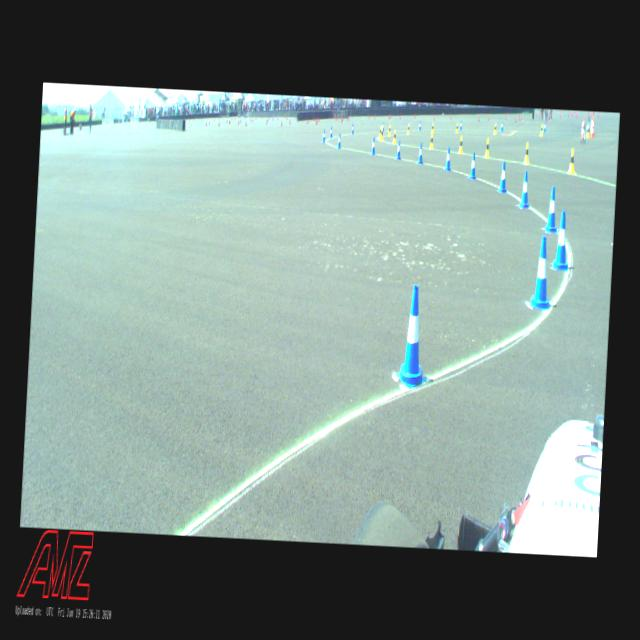blue_cone: (396, 285, 431, 389), (530, 236, 554, 310), (552, 210, 570, 270), (546, 186, 558, 232), (520, 172, 530, 208), (498, 161, 508, 193), (444, 147, 452, 171), (470, 153, 477, 180), (418, 142, 424, 164), (396, 140, 402, 160), (371, 136, 376, 154), (322, 130, 326, 144), (338, 134, 342, 148), (330, 126, 333, 138), (418, 121, 422, 130), (501, 121, 504, 132), (351, 124, 354, 134), (586, 121, 588, 133), (544, 122, 546, 133), (460, 120, 462, 130), (382, 122, 384, 132)
large_orange_cone: (580, 116, 584, 138), (591, 118, 595, 138), (590, 116, 593, 134)
unknown_cone: (280, 119, 282, 127), (414, 112, 416, 120), (515, 115, 517, 123), (245, 120, 247, 127), (316, 118, 318, 125), (506, 114, 508, 121), (272, 116, 274, 122), (294, 114, 296, 120), (560, 112, 562, 118), (568, 112, 570, 118), (572, 112, 574, 118), (218, 121, 220, 126), (234, 116, 236, 121), (588, 112, 590, 117), (266, 120, 268, 124), (318, 116, 319, 124), (268, 116, 270, 120), (290, 118, 291, 125), (313, 115, 314, 122), (400, 113, 401, 120), (536, 112, 537, 119), (547, 115, 548, 122), (577, 112, 578, 119), (598, 111, 599, 118), (206, 121, 207, 127), (209, 120, 210, 126), (238, 119, 239, 125), (252, 117, 253, 123), (307, 118, 308, 124), (336, 116, 337, 122), (348, 115, 349, 121), (374, 114, 375, 120), (388, 114, 389, 120), (391, 113, 392, 119), (434, 114, 435, 120), (451, 114, 452, 120), (478, 116, 479, 122), (489, 114, 490, 120), (214, 117, 215, 122), (218, 116, 219, 121), (227, 119, 228, 124), (240, 118, 241, 123), (285, 114, 286, 119), (287, 115, 288, 120), (341, 115, 342, 120), (202, 118, 203, 122), (229, 120, 230, 124), (250, 118, 251, 122), (342, 116, 343, 120), (575, 110, 576, 114), (555, 111, 556, 115), (193, 119, 194, 122), (595, 112, 596, 115), (593, 112, 594, 115), (190, 119, 190, 122), (256, 116, 256, 120), (262, 115, 262, 119), (278, 115, 278, 120), (316, 118, 316, 124), (342, 118, 342, 124), (370, 113, 370, 119), (232, 116, 232, 120), (268, 118, 268, 121), (520, 114, 520, 121), (522, 114, 522, 121), (590, 112, 590, 115)
yellow_cone: (568, 148, 576, 174), (524, 142, 530, 164), (484, 138, 490, 158), (458, 136, 464, 154), (429, 132, 434, 150), (392, 130, 397, 144), (380, 128, 384, 140), (540, 124, 544, 136), (586, 125, 590, 137), (379, 126, 382, 139), (388, 124, 391, 136), (407, 124, 410, 134), (494, 124, 496, 134), (456, 123, 458, 133), (432, 123, 434, 133)
